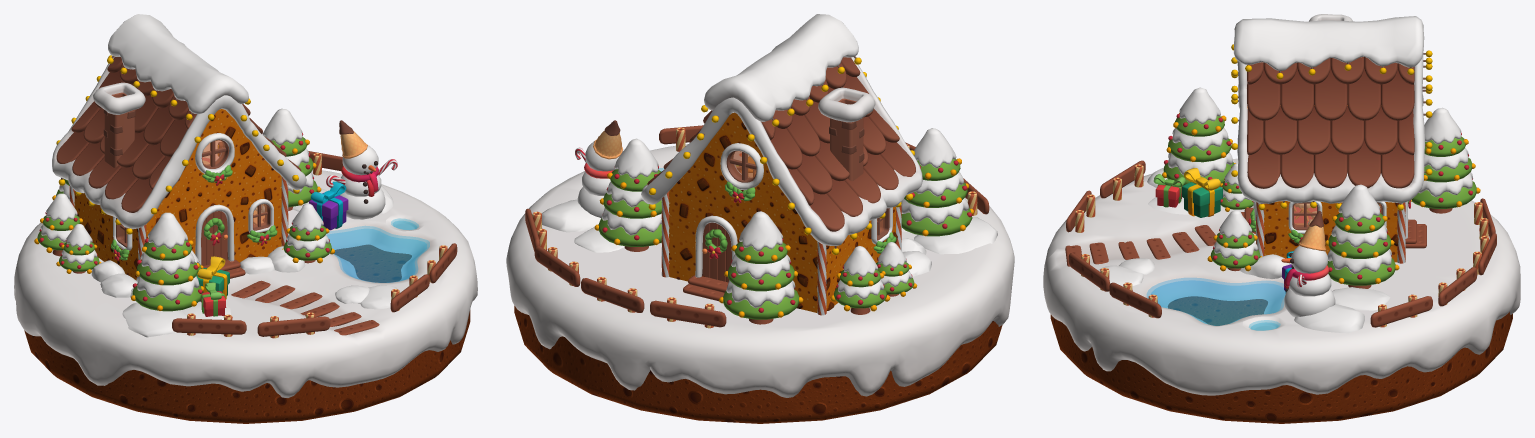
Rendered from Christmas Pack_Free.fbx.
3 renders of one model, left to right at view 1: azimuth 30°, elevation 25°; view 2: azimuth 150°, elevation 25°; view 3: azimuth 270°, elevation 25°, orthographic. The views are drawn at different scales.
Parts seen in each view (by area): view 1: Plantform_001.001, Roof_outer_001.002, Wall_001.001, Roof_snow_001.001, Roof_inner_001.001, Christmass_tree_outdoor_001.001, Snowman_001.001, Fireplace_pipe_001.001, Christmass_tree_outdoor_001.003, Wall_004.001, Christmass_tree_outdoor_002.001, Christmass_tree_outdoor_002.003 (+22 smaller); view 2: Plantform_001.001, Roof_outer_001.002, Wall_002.001, Roof_snow_001.001, Roof_inner_001.001, Christmass_tree_outdoor_001.002, Christmass_tree_outdoor_001.001, Christmass_tree_outdoor_001.003, Fireplace_pipe_001.001, Snowman_001.001, Christmass_tree_outdoor_002.003, Snow_002.002 (+20 smaller); view 3: Plantform_001.001, Roof_outer_001.001, Roof_snow_001.001, Roof_inner_001.001, Christmass_tree_outdoor_001.003, Christmass_tree_outdoor_001.001, Christmass_tree_outdoor_001.002, Snowman_001.001, Wall_003.001, Christmass_tree_outdoor_002.001, Present_002.001, Snow_004.001 (+18 smaller).
Boxes of the visible parts, box(x1,y1,x2,y2) form: Plantform_001.001: box(14, 169, 477, 423); Roof_outer_001.002: box(56, 57, 196, 212); Wall_001.001: box(146, 109, 281, 262); Roof_snow_001.001: box(108, 14, 248, 114); Roof_inner_001.001: box(52, 56, 306, 229); Christmass_tree_outdoor_001.001: box(132, 212, 202, 311); Snowman_001.001: box(326, 120, 397, 219); Fireplace_pipe_001.001: box(93, 82, 145, 167); Christmass_tree_outdoor_001.003: box(262, 108, 317, 210); Wall_004.001: box(74, 191, 138, 280); Christmass_tree_outdoor_002.001: box(283, 203, 331, 263); Christmass_tree_outdoor_002.003: box(37, 193, 80, 256); Plantform_001.001: box(506, 144, 1014, 423); Roof_outer_001.002: box(761, 57, 915, 231); Wall_002.001: box(669, 112, 817, 312); Roof_snow_001.001: box(704, 14, 858, 121); Roof_inner_001.001: box(641, 57, 922, 245); Christmass_tree_outdoor_001.002: box(723, 211, 799, 324); Christmass_tree_outdoor_001.001: box(901, 128, 972, 236); Christmass_tree_outdoor_001.003: box(598, 138, 661, 251); Fireplace_pipe_001.001: box(818, 87, 875, 181); Snowman_001.001: box(575, 120, 622, 218); Christmass_tree_outdoor_002.003: box(834, 246, 886, 314); Snow_002.002: box(914, 217, 997, 254); Plantform_001.001: box(1043, 158, 1520, 423); Roof_outer_001.001: box(1247, 56, 1414, 188); Roof_snow_001.001: box(1233, 16, 1424, 71); Roof_inner_001.001: box(1237, 53, 1424, 203); Christmass_tree_outdoor_001.003: box(1327, 184, 1395, 288); Christmass_tree_outdoor_001.001: box(1163, 87, 1233, 185); Christmass_tree_outdoor_001.002: box(1411, 107, 1476, 213); Snowman_001.001: box(1281, 211, 1335, 317); Wall_003.001: box(1264, 201, 1398, 262); Christmass_tree_outdoor_002.001: box(1210, 210, 1260, 271); Present_002.001: box(1182, 168, 1222, 217); Snow_004.001: box(1294, 304, 1364, 333).
Size of the model in its own units: 17.26 by 11.6 by 17.26.
Materials: 9 (9 with a texture image).
